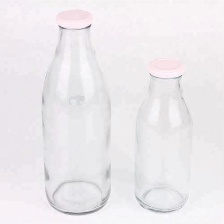bottle: (38, 6, 119, 219), (132, 49, 197, 215)
